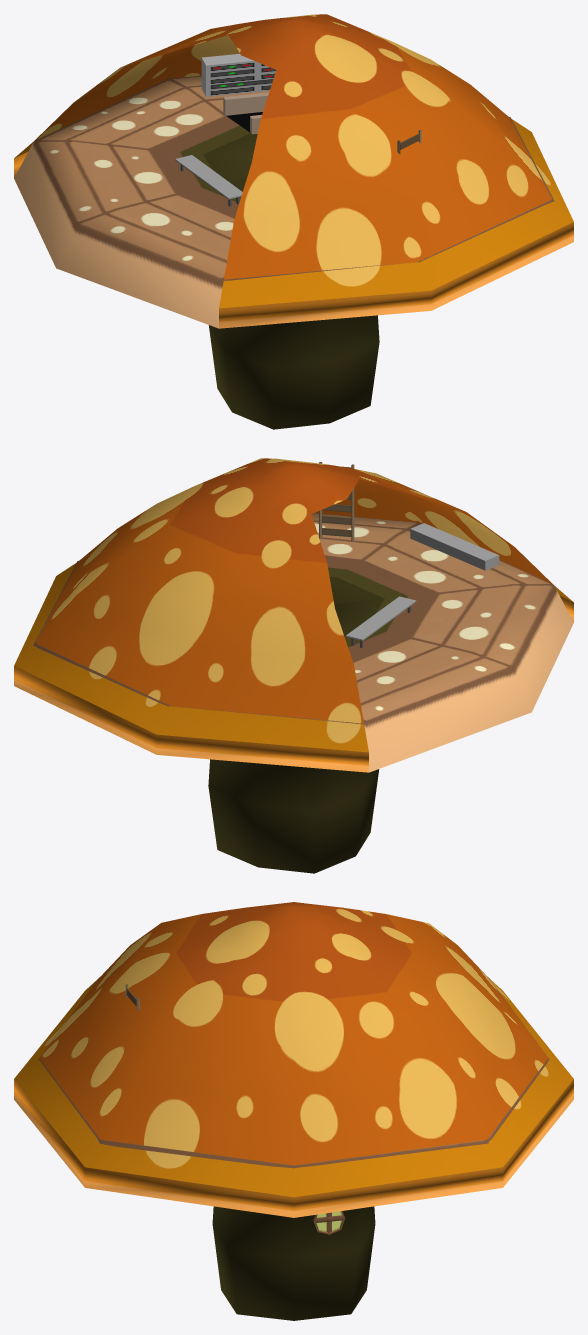
File: ObservatoryLevel2.fbx
The picture shows the model from 3 angles, top to bottom: view 1: azimuth 30°, elevation 25°; view 2: azimuth 150°, elevation 25°; view 3: azimuth 270°, elevation 25°; orthographic projection.
Parts seen in each view (by area): view 1: pCube5, pCube71, pCube65, pCube61; view 2: pCube5, pCube72, pCube65, pCylinder4; view 3: pCube5, cap_observatorylevels_pCube49.
Part boxes in pixels (bbox=[...]): pCube5: bbox=[14, 14, 573, 429]; pCube71: bbox=[201, 54, 276, 96]; pCube65: bbox=[175, 155, 242, 206]; pCube61: bbox=[223, 92, 268, 115]; pCube5: bbox=[14, 458, 573, 873]; pCube72: bbox=[410, 523, 499, 570]; pCube65: bbox=[346, 596, 416, 647]; pCylinder4: bbox=[319, 462, 354, 541]; pCube5: bbox=[14, 902, 573, 1320]; cap_observatorylevels_pCube49: bbox=[313, 1211, 345, 1234].
Size of the model in its own units: 4.37 by 3.3 by 4.37.
Materials: 11 (8 with a texture image).
